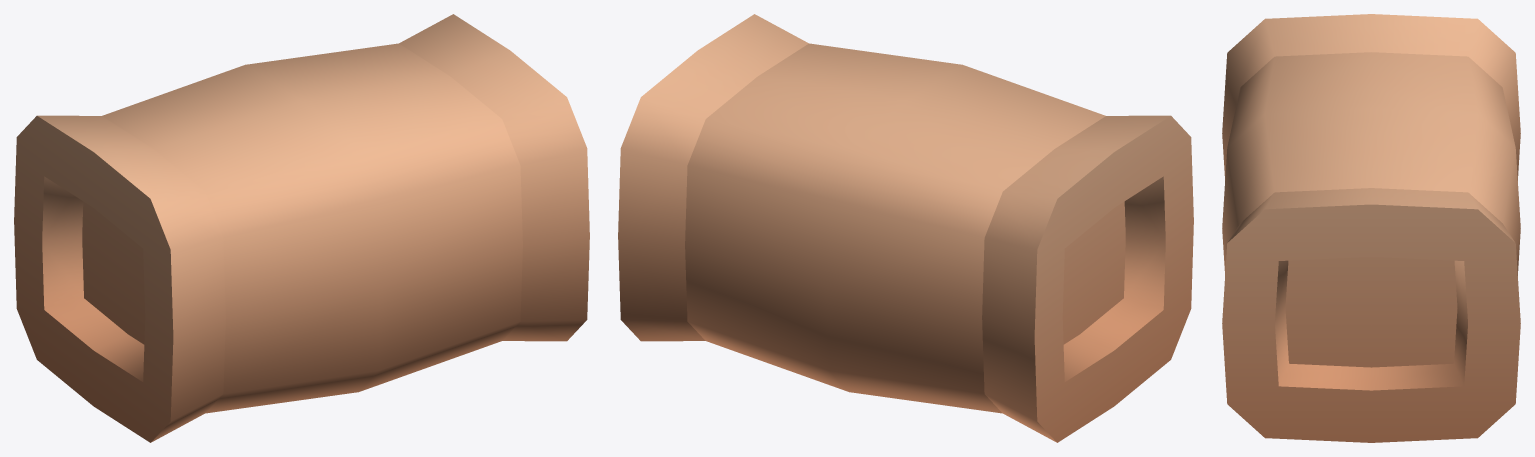
Rendered from hay-bale.glb.
3 views of the same model, side by side, from view 1: azimuth 30°, elevation 25°; view 2: azimuth 150°, elevation 25°; view 3: azimuth 270°, elevation 25° (orthographic). The views are drawn at different scales.
Parts seen in each view (by area): view 1: hay-bale; view 2: hay-bale; view 3: hay-bale.
Part boxes in pixels (x1=…): hay-bale: x1=14, y1=14, x2=589, y2=442; hay-bale: x1=618, y1=14, x2=1193, y2=442; hay-bale: x1=1222, y1=14, x2=1520, y2=442.
Size of the model in its own units: 12.13 by 7.08 by 8.04.
1 material, 1 textured.
